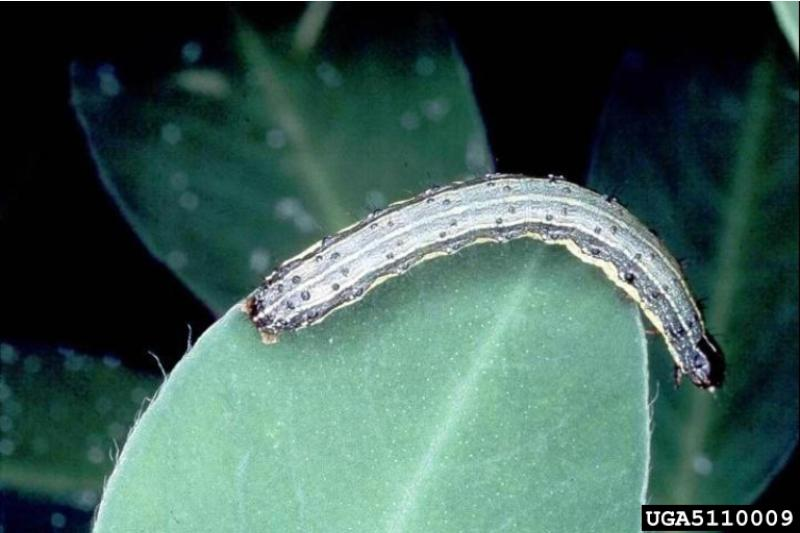fall-armyworm: (239, 173, 729, 393)
